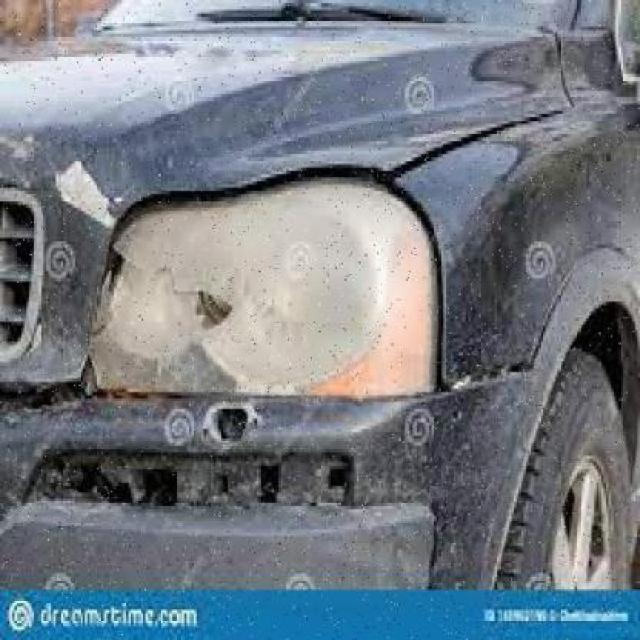Headlight-Damage: (88, 171, 469, 439)
front-bumper-dent: (0, 352, 577, 590)
